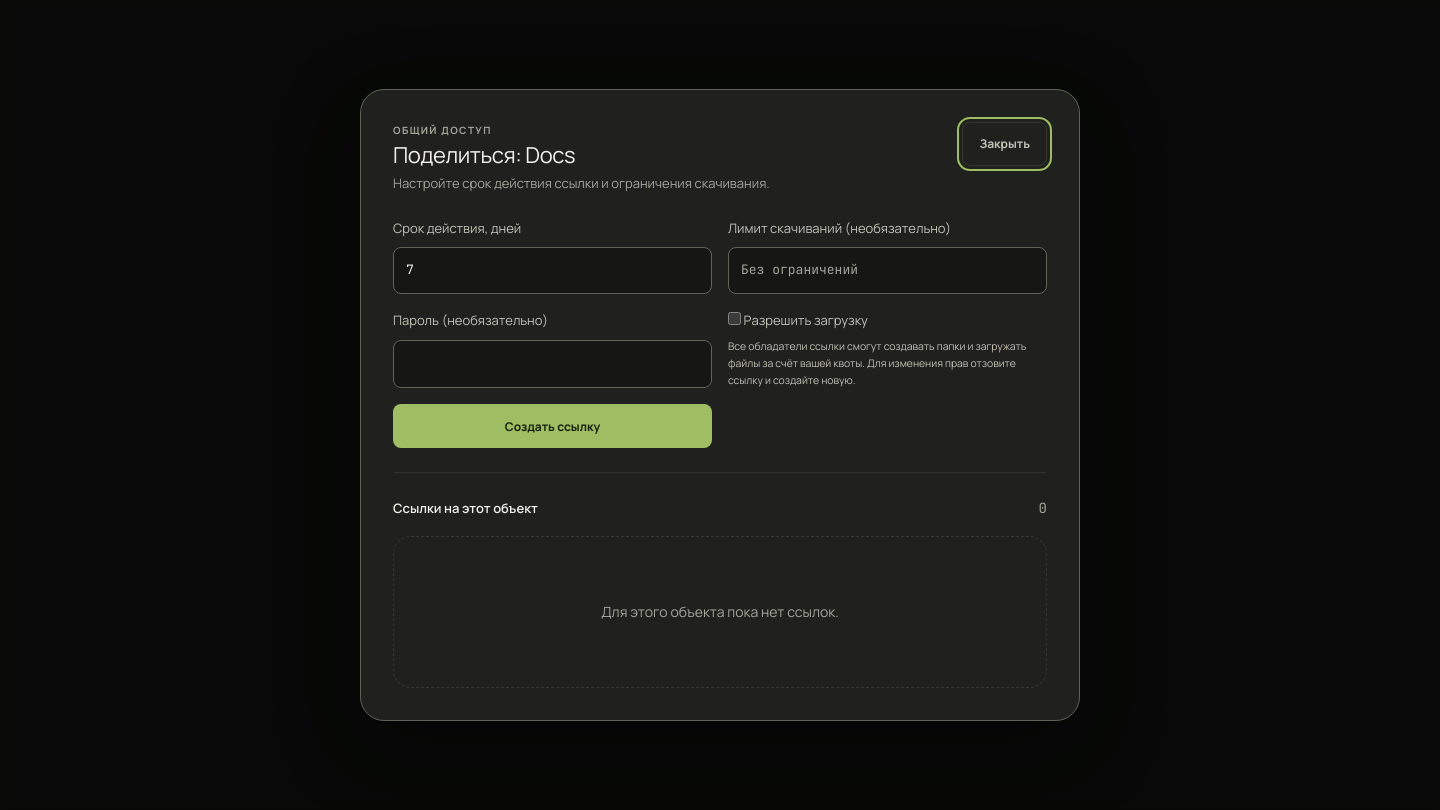
Scenario: ShareDialog › passes upload permission only for folder links while retaining other options
The width and height of the screenshot is (1440, 810).
Click the checkbox labelled "Разрешить загрузку" at (734, 318), box [728, 312, 741, 324]
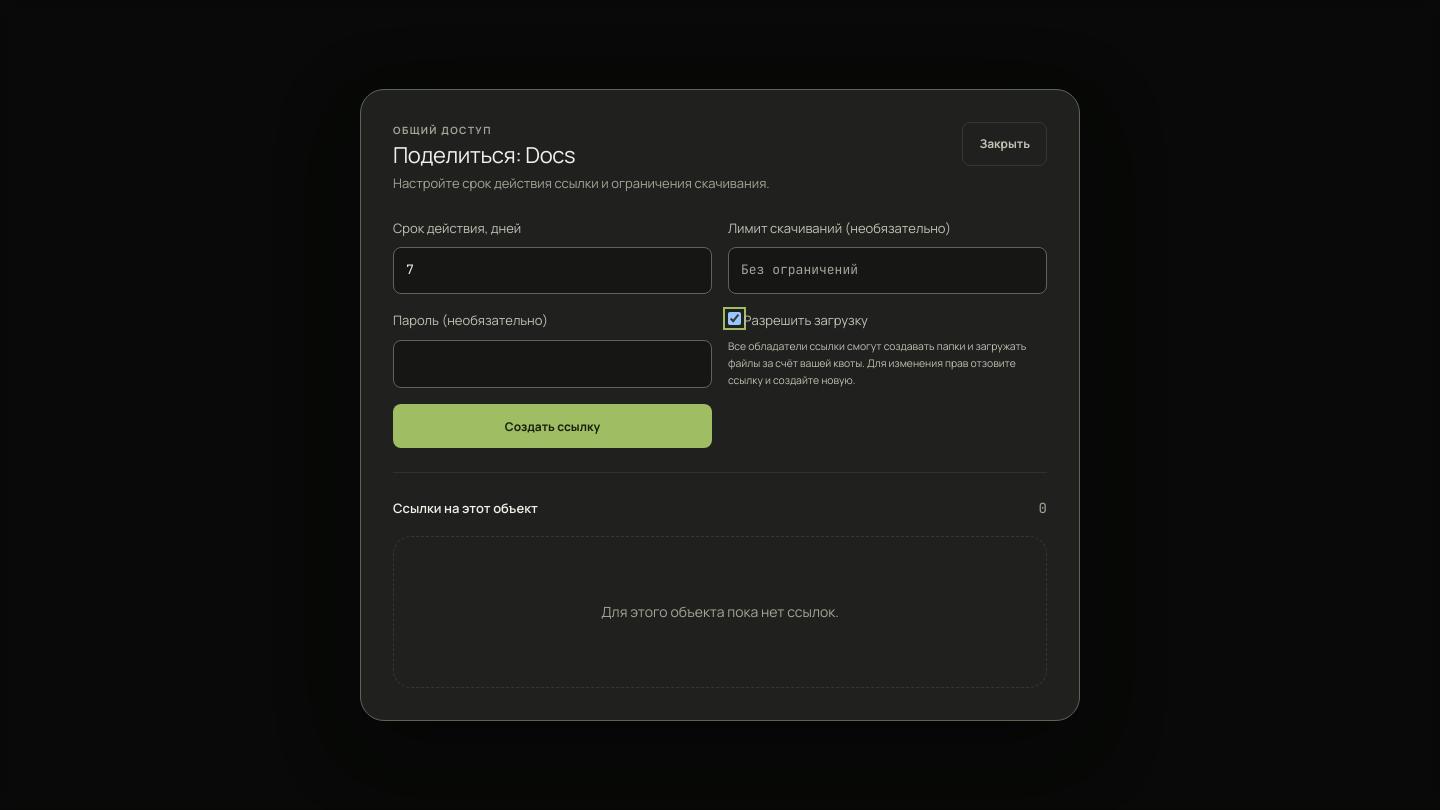
Type "secret" into the password field labelled "Пароль (необязательно)" at (552, 364), box [393, 340, 712, 388]
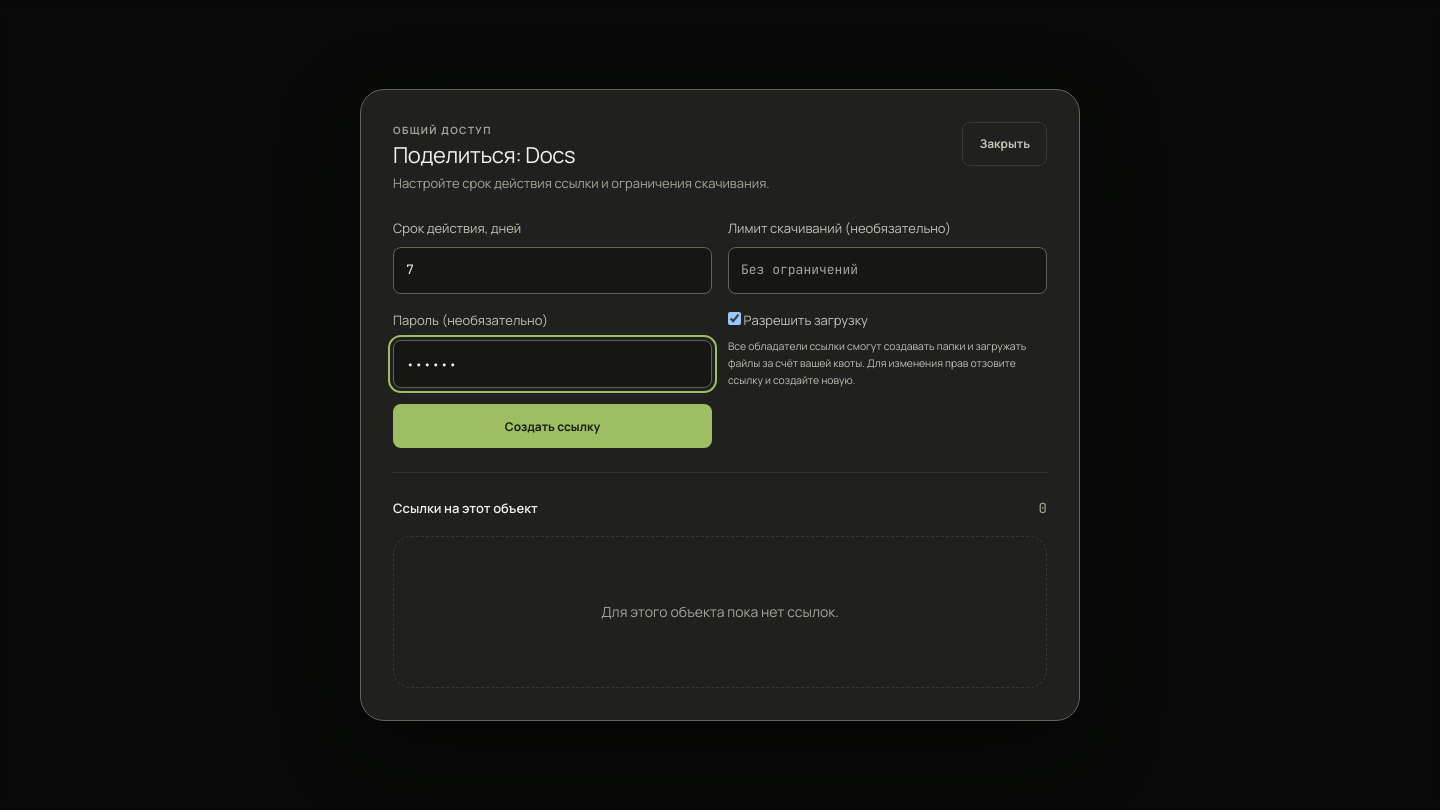
Type "3" into the number field labelled "Лимит скачиваний (необязательно)" at (888, 270), box [728, 247, 1047, 294]
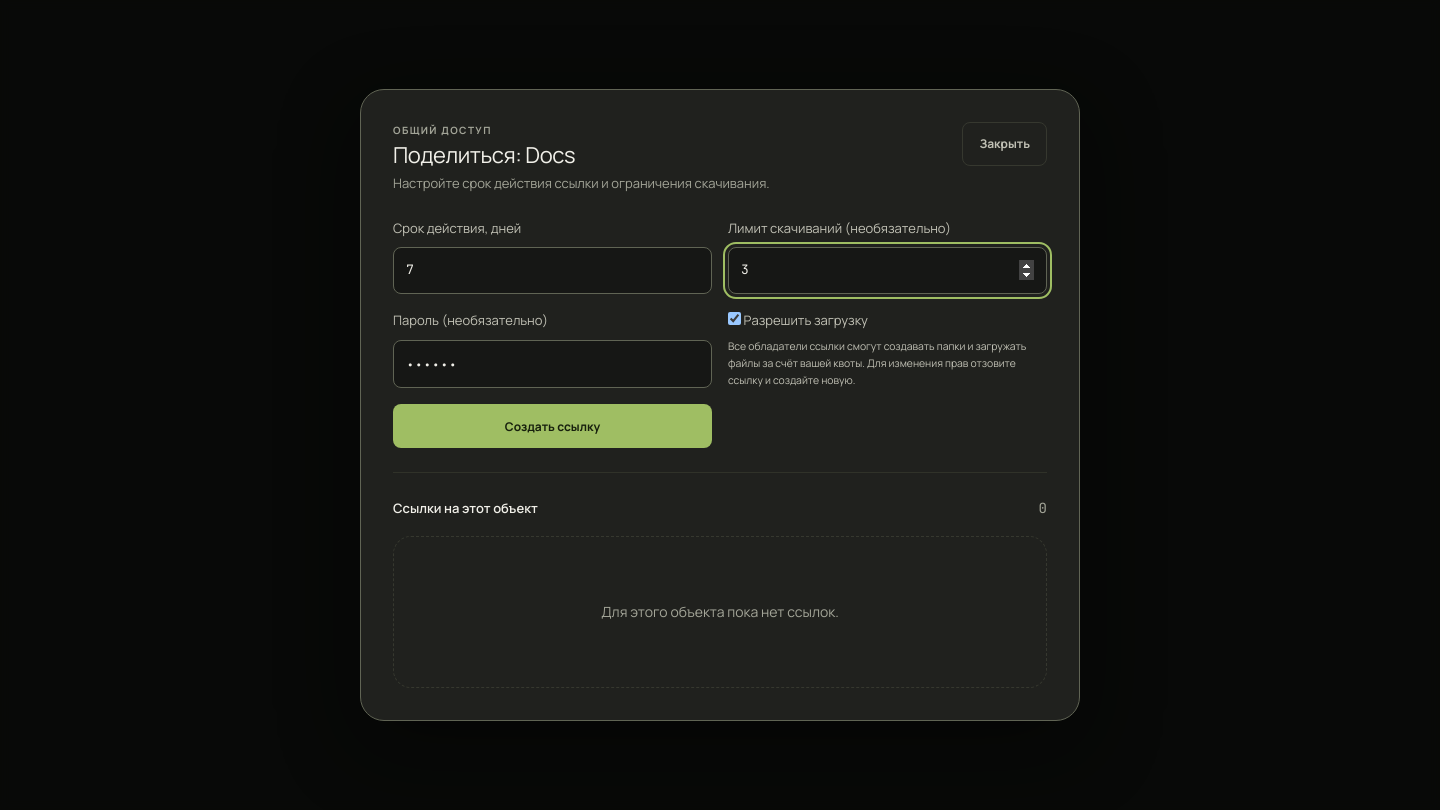
Click the button "Создать ссылку" at (552, 426), box [393, 404, 712, 448]
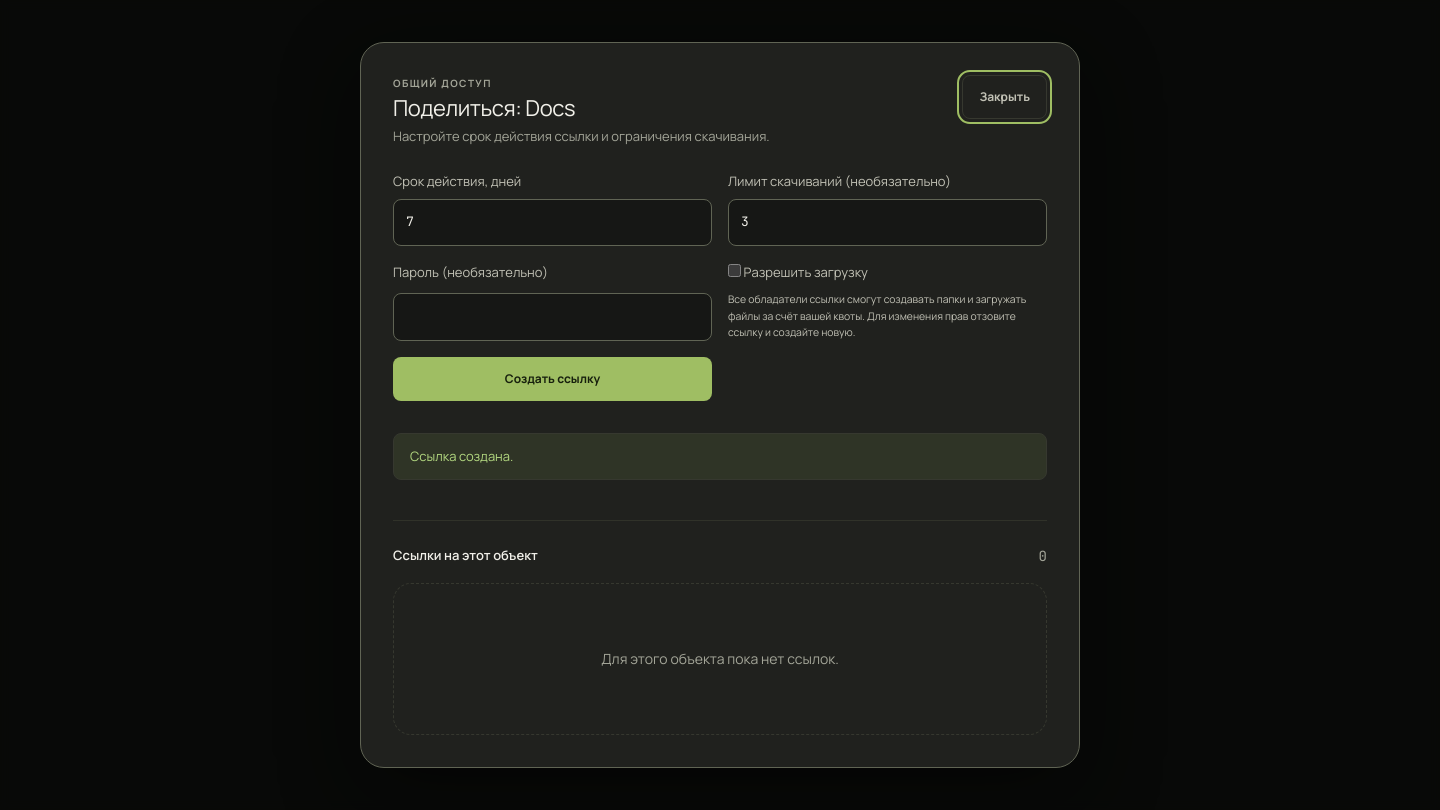
Result: the checkbox labelled "Разрешить загрузку" is not checked at [728, 264, 741, 277]
Result: the text "Ссылка создана." is shown at [393, 433, 1047, 480]
